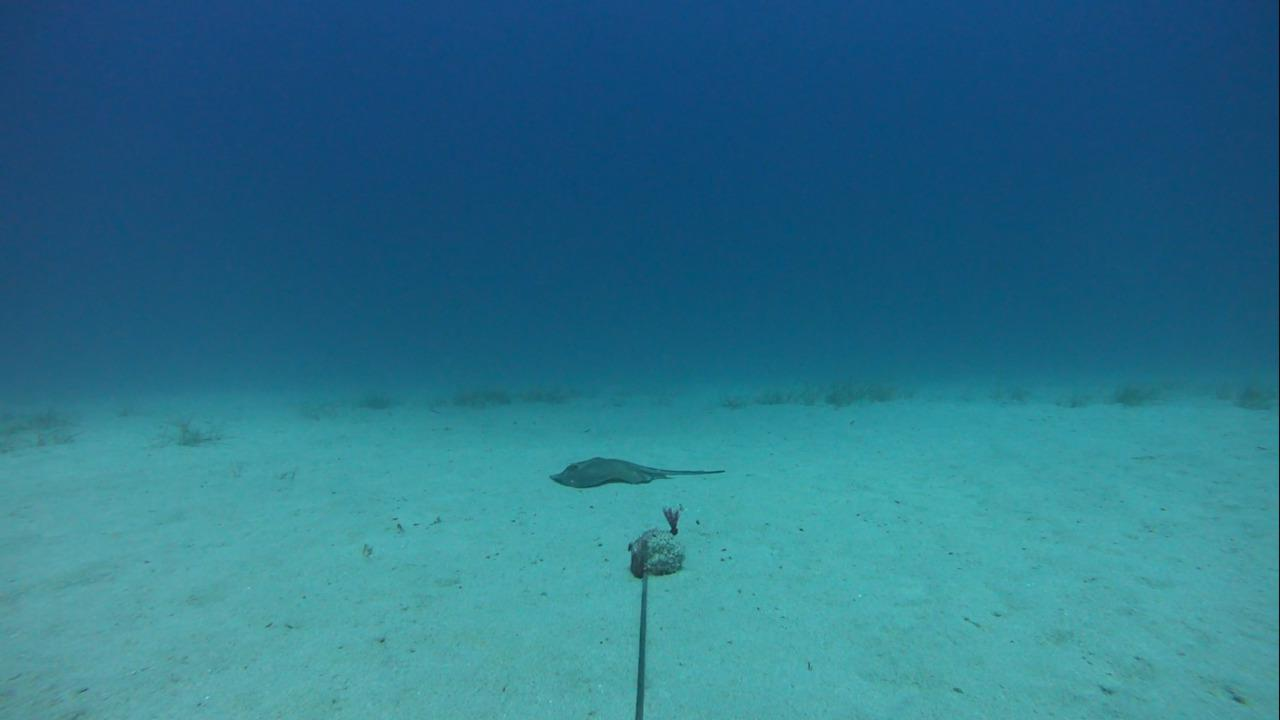myliobatis: (543, 450, 726, 492)
